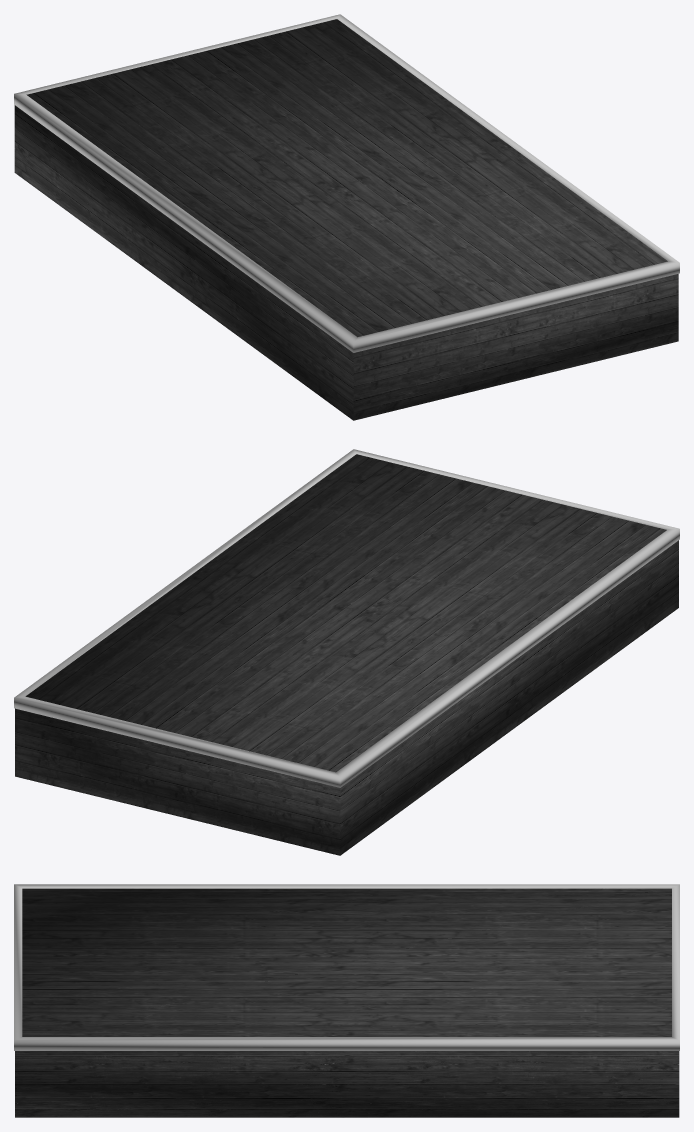
Rendered from dj stage.fbx.
The picture shows the model from 3 angles, top to bottom: view 1: azimuth 30°, elevation 25°; view 2: azimuth 150°, elevation 25°; view 3: azimuth 270°, elevation 25°; orthographic projection.
Parts seen in each view (by area): view 1: dj_stage; view 2: dj_stage; view 3: dj_stage.
Part boxes in pixels (x1=…): dj_stage: x1=14, y1=14, x2=679, y2=420; dj_stage: x1=14, y1=449, x2=679, y2=855; dj_stage: x1=14, y1=884, x2=679, y2=1117.
Bounding box in the file's own units: 179 × 41.36 × 323.
Materials: 2 (1 with a texture image).
